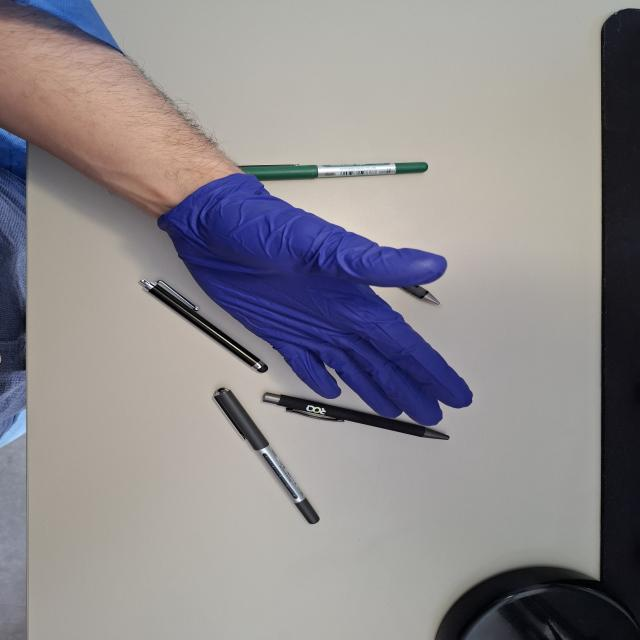glove_on: (153, 172, 476, 428)
